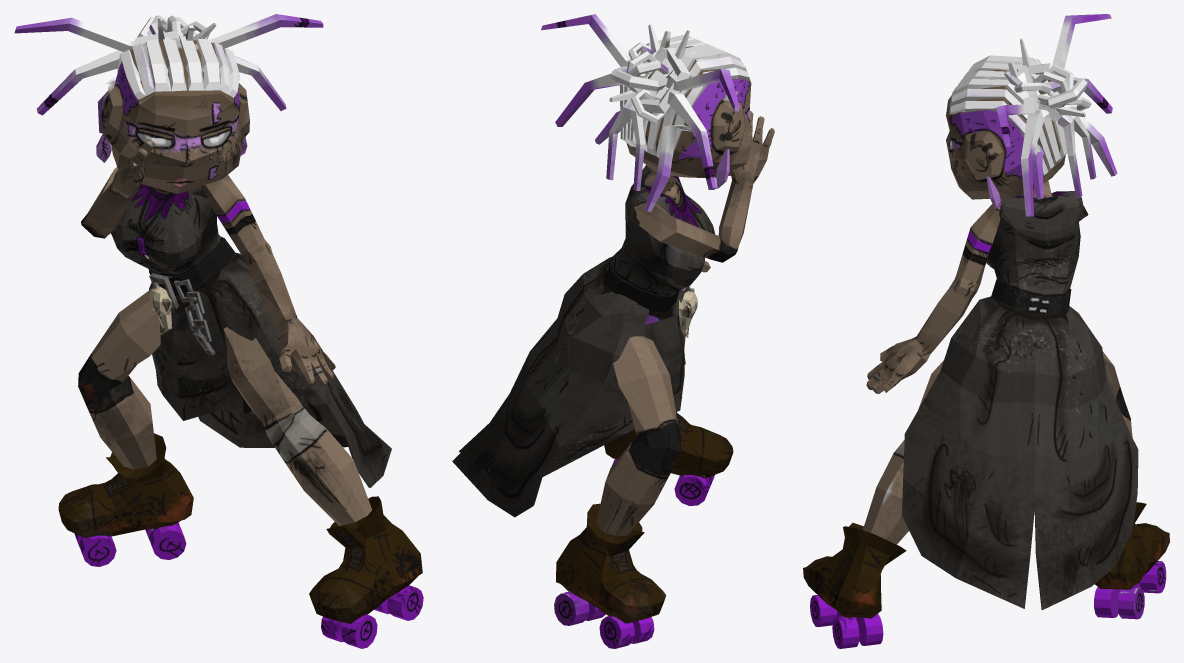
The model's file is bruja_000070.obj.
3 views of the same model, side by side, from view 1: azimuth 30°, elevation 25°; view 2: azimuth 150°, elevation 25°; view 3: azimuth 270°, elevation 25° (orthographic). The views are drawn at different scales.
Parts seen in each view (by area): view 1: Bruja_Plane.001; view 2: Bruja_Plane.001; view 3: Bruja_Plane.001.
Part boxes in pixels (<box>): Bruja_Plane.001: <box>14,14,423,648</box>; Bruja_Plane.001: <box>452,14,774,648</box>; Bruja_Plane.001: <box>803,14,1169,648</box>.
Bounding box in the file's own units: 9.16 × 15.42 × 9.25.
